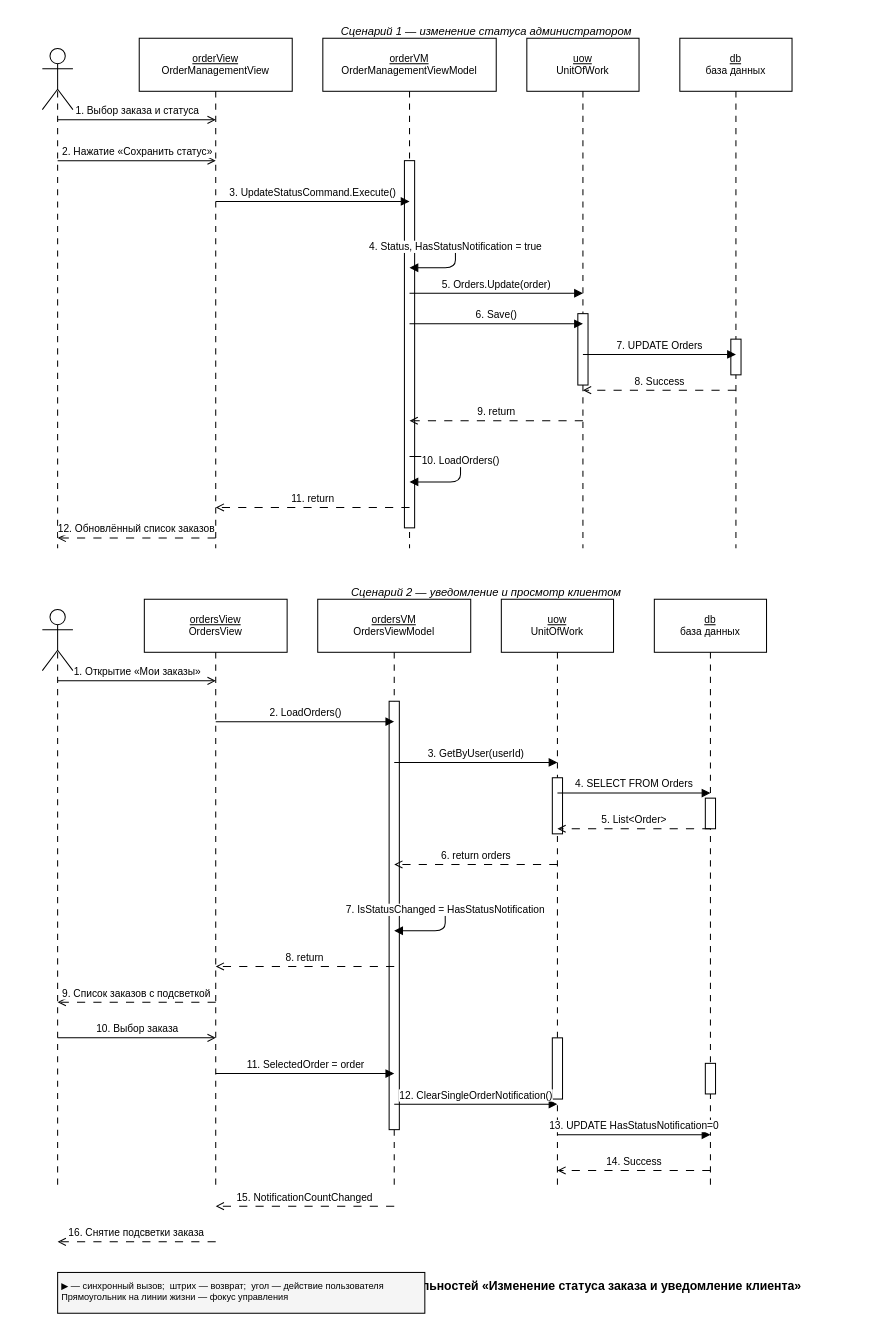
This 891x1331 diagram has some shape labels left out. Each missing label, with the centre of its shape:
Администратор: point 57,78
Клиент: point 57,639
